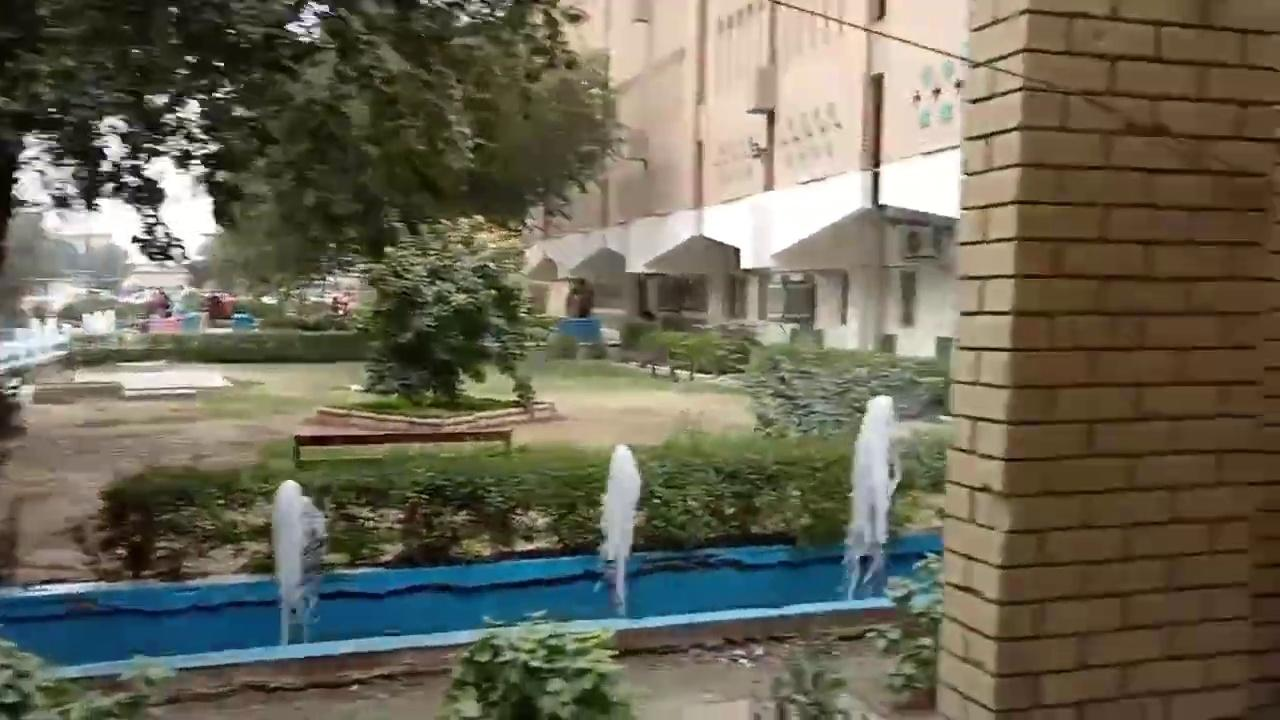fountain: (2, 393, 946, 677), (839, 393, 902, 599), (269, 478, 328, 645), (594, 442, 642, 605)
person: (564, 276, 593, 318)
tree: (1, 0, 647, 418), (0, 0, 319, 267), (331, 214, 558, 418), (436, 609, 633, 718)
